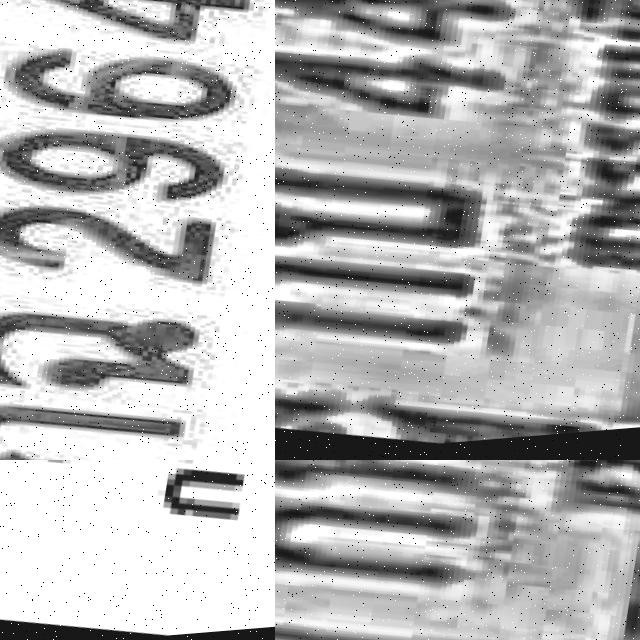license-plate: (275, 0, 640, 460), (0, 0, 275, 460), (275, 460, 640, 640), (0, 460, 275, 640)
